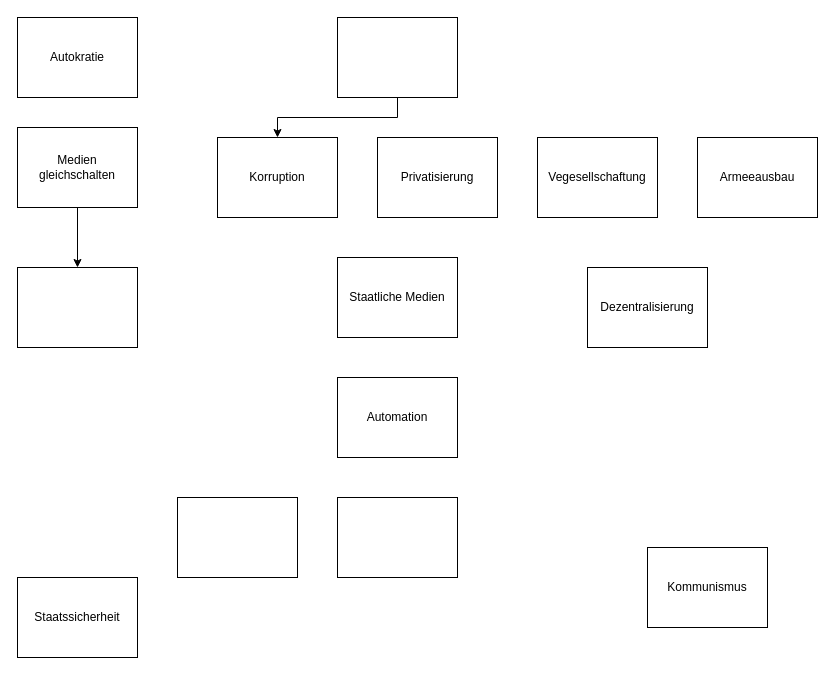
Some shapes in this 835 by 675 pixel diagram are drawn without their labels. The shapes that lost their labels are listed below. From the top down, each one's box as (x1, y1, x2, y2) in pixels, then its label:
(336, 16, 458, 98): Demokratie
(16, 266, 138, 348): Propagandaapparat
